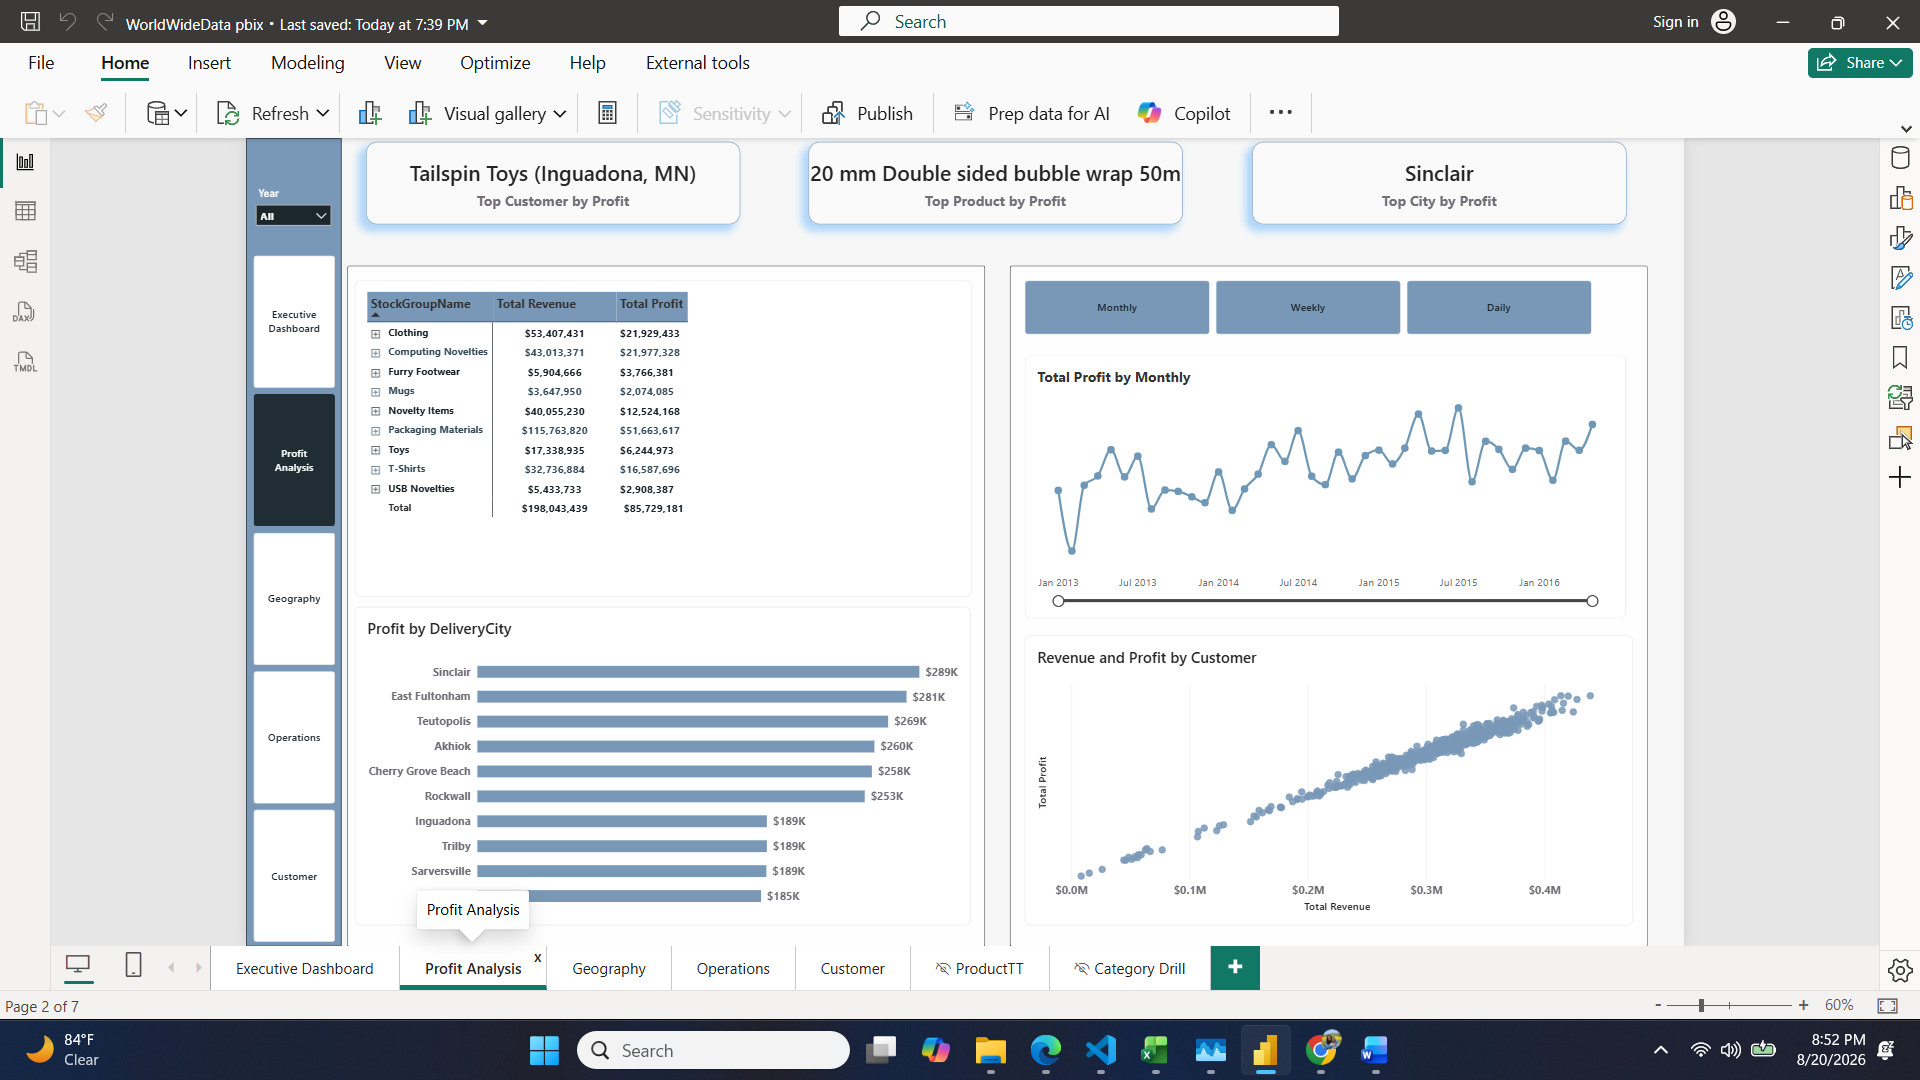

The page's visual inventory and layout, read from the dashboard file:
{"tool":"powerbi","page":{"name":"Profit Analysis","canvas":[1920,1080],"ordinal":1},"visuals":[{"type":"shape","box":[0,0,127.7,1079.9],"z":0},{"type":"shape","title":"Shape Line","box":[135.7,170.1,852.4,910.3],"z":1000},{"type":"shape","title":"Shape Line","box":[1020.6,170.1,852.4,910.3],"z":2000},{"type":"card","title":"Top Product by Profit","fields":{"Values":["_Measures.Top Product by Profit"]},"box":[752,4.5,500,110],"z":3000},{"type":"clusteredBarChart","title":"Profit by DeliveryCity","fields":{"Category":["Dim_ Customers.DeliveryCityName"],"Y":["_Measures.Total Profit"]},"box":[144.8,626.1,823.4,425.3],"z":4000},{"type":"card","fields":{"Values":["_Measures.Top City by Profit"]},"box":[1343.9,4.3,500,110.4],"z":5000},{"type":"card","fields":{"Values":["_Measures.Top Customer by Profit"]},"box":[160.1,4.3,500,110.4],"z":6000},{"type":"scatterChart","title":" Revenue and Profit by Customer","fields":{"Category":["Dim_ Customers.CustomerName"],"X":["_Measures.Total Revenue"],"Y":["_Measures.Total Profit"]},"box":[1041.3,657.6,805.8,422.1],"z":7000},{"type":"pivotTable","title":"Total Revenue by CategoryName","fields":{"Rows":["Dim_ProductGroups.StockGroupName","Dim_Product.StockItemName"],"Values":["_Measures.Total Revenue","_Measures.Total Profit"]},"box":[145,190.4,824.5,422],"z":8000},{"type":"advancedSlicerVisual","fields":{"Values":["Parameter.Parameter"]},"box":[1040.6,190,758.2,72.4],"z":11000},{"type":"lineChart","fields":{"Category":["Dim_Date.Monthly Date"],"Y":["_Measures.Total Profit"]},"box":[1040.6,291.4,803.5,351.1],"z":12000},{"type":"pageNavigator","box":[10.5,305.2,109.9,770.9],"z":12001},{"type":"slicer","fields":{"Values":["Dim_Date.Year"]},"box":[10.5,12.2,114,63.3],"z":12002},{"type":"slicer","fields":{"Values":["Dim_ Customers.AccountOpenedDate.Variation.Date Hierarchy.Month"]},"box":[12.2,195.3,109.9,52.3],"z":12003}]}

Visuals, with their boxes on the page's 1920x1080 design canvas (x1, y1, x2, y2). These are canvas units, not pixel positions in the 1920x1080 screenshot, which may show the page scaled, cropped or inside an application window:
shape: bbox=(0, 0, 128, 1080)
"Shape Line" shape: bbox=(136, 170, 988, 1080)
"Shape Line" shape: bbox=(1021, 170, 1873, 1080)
"Top Product by Profit" card: bbox=(752, 4, 1252, 114)
"Profit by DeliveryCity" clusteredBarChart: bbox=(145, 626, 968, 1051)
card - _Measures.Top City by Profit: bbox=(1344, 4, 1844, 115)
card - _Measures.Top Customer by Profit: bbox=(160, 4, 660, 115)
" Revenue and Profit by Customer" scatterChart: bbox=(1041, 658, 1847, 1080)
"Total Revenue by CategoryName" pivotTable: bbox=(145, 190, 970, 612)
advancedSlicerVisual - Parameter.Parameter: bbox=(1041, 190, 1799, 262)
lineChart - Dim_Date.Monthly Date x _Measures.Total Profit: bbox=(1041, 291, 1844, 642)
pageNavigator: bbox=(10, 305, 120, 1076)
slicer - Dim_Date.Year: bbox=(10, 12, 124, 76)
slicer - Dim_ Customers.AccountOpenedDate.Variation.Date Hierarchy.Month: bbox=(12, 195, 122, 248)
